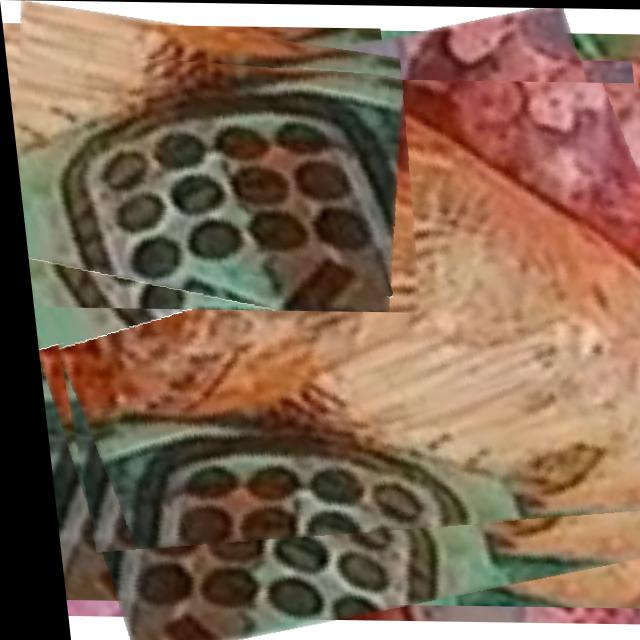general_trashbag: (14, 68, 400, 311)
other_trashbag: (34, 77, 640, 521)
